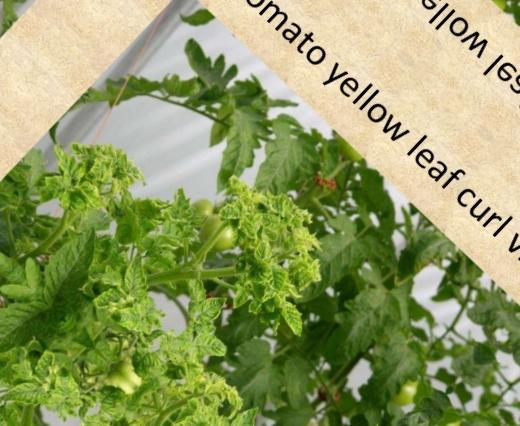Tomato leaf yellow virus: (110, 245, 165, 301), (38, 141, 91, 194), (109, 294, 162, 347), (268, 294, 319, 344), (184, 287, 232, 336), (66, 180, 112, 226), (155, 350, 199, 393), (191, 328, 235, 371), (172, 395, 221, 426), (215, 399, 270, 426), (209, 193, 247, 232), (231, 209, 267, 246), (261, 263, 297, 299), (128, 342, 161, 375), (249, 238, 282, 270), (291, 258, 323, 290), (355, 419, 401, 426), (259, 422, 319, 426)
